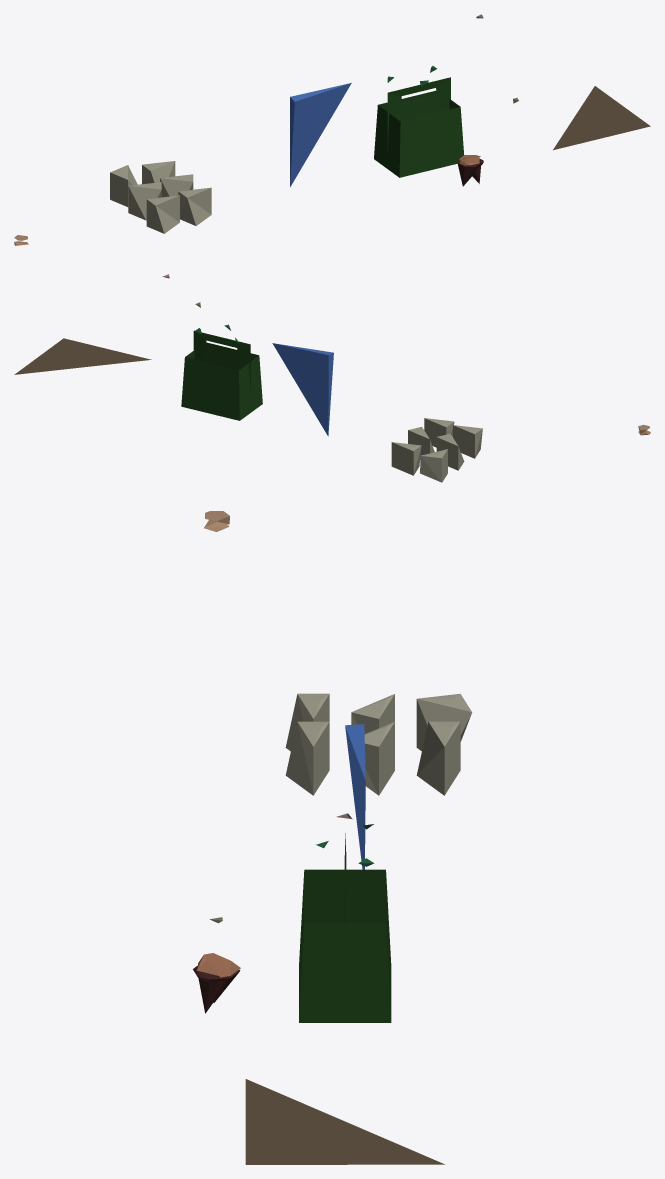
File: ss-groceries.lod1.glb
3 renders of one model, top to bottom at view 1: azimuth 30°, elevation 25°; view 2: azimuth 150°, elevation 25°; view 3: azimuth 270°, elevation 25°, orthographic. The views are drawn at different scales.
Visible parts, largest first — view 1: defaultMaterial; view 2: defaultMaterial; view 3: defaultMaterial.
Part boxes in pixels (bbox=[...]): defaultMaterial: bbox=[14, 14, 650, 245]; defaultMaterial: bbox=[14, 274, 650, 482]; defaultMaterial: bbox=[193, 511, 472, 1164].
Bounding box in the file's own units: 1.74 × 0.3369 × 0.3641.
